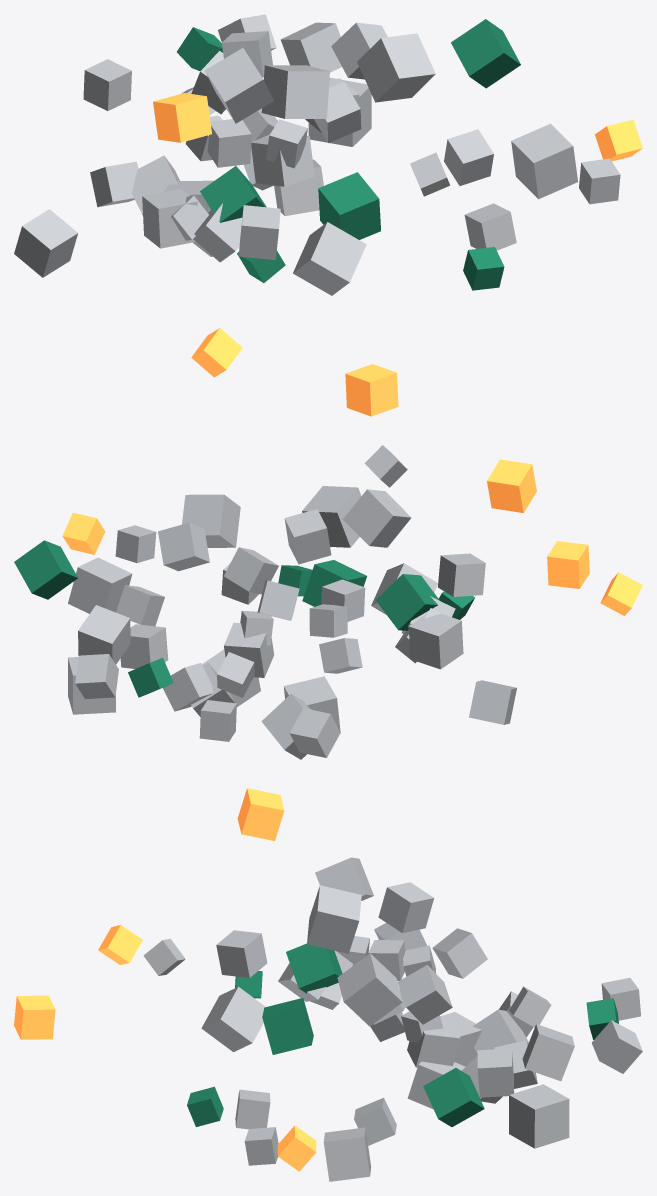
Rendered from prop-dice.glb.
3 renders of one model, top to bottom at view 1: azimuth 30°, elevation 25°; view 2: azimuth 150°, elevation 25°; view 3: azimuth 270°, elevation 25°, orthographic. The views are drawn at different scales.
Visible parts, largest first — view 1: RE_Prop_Dice; view 2: RE_Prop_Dice; view 3: RE_Prop_Dice.
Boxes of the visible parts, <box> form: RE_Prop_Dice: <box>14,14,642,416</box>; RE_Prop_Dice: <box>14,445,642,759</box>; RE_Prop_Dice: <box>14,788,642,1181</box>.
Size of the model in its own units: 2.23 by 0.9878 by 2.46.
